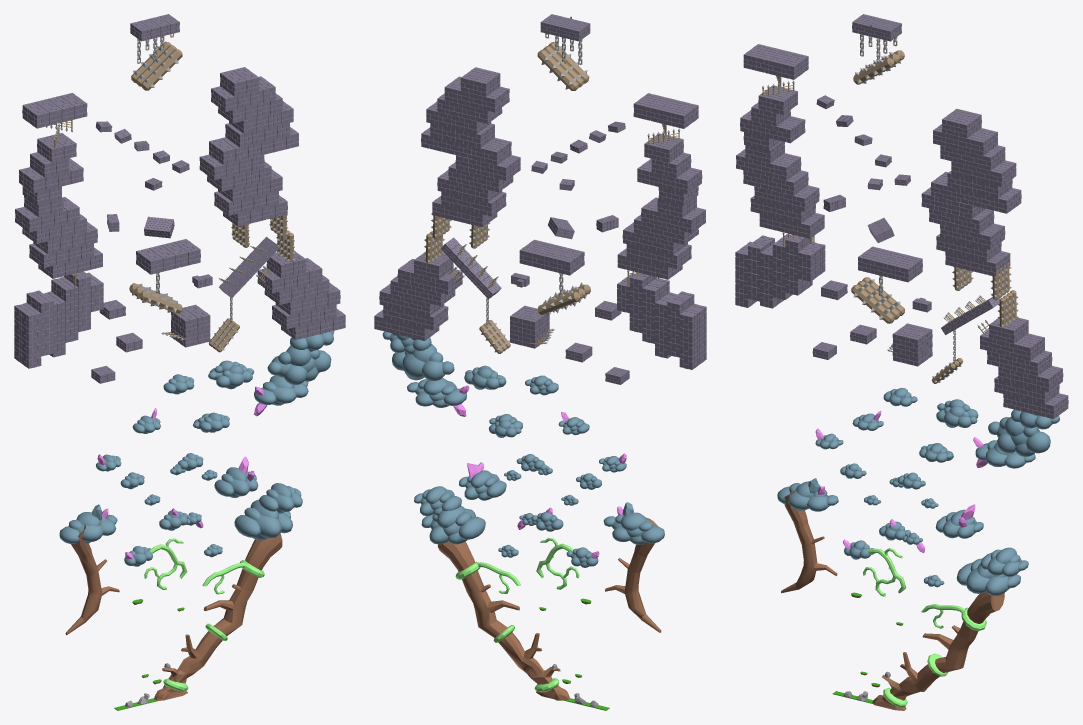
The model's file is world01.fbx.
3 views of the same model, side by side, from view 1: azimuth 30°, elevation 25°; view 2: azimuth 150°, elevation 25°; view 3: azimuth 330°, elevation 25° (orthographic).
Parts seen in each view (by area): view 1: world; view 2: world; view 3: world.
Part boxes in pixels (x1,y1,x2,y2): world: (14,14,345,710); world: (374,14,706,710); world: (735,14,1068,710).
Size of the model in its own units: 51105 by 104458 by 8278.
